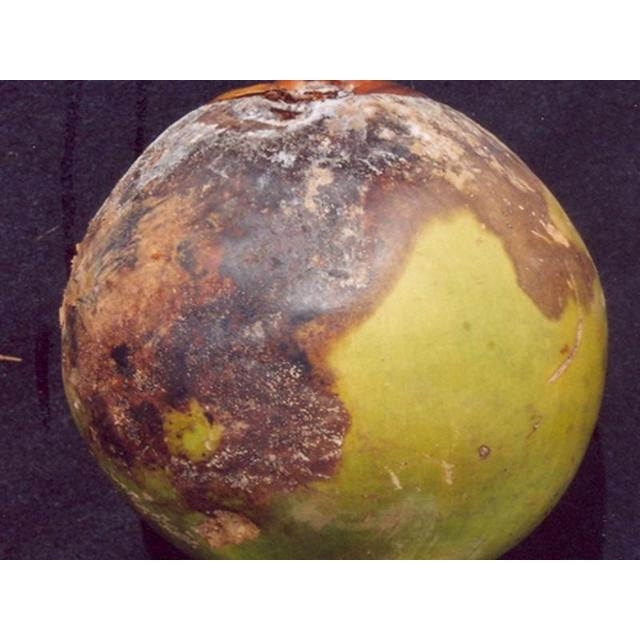damaged: (60, 80, 606, 559)
